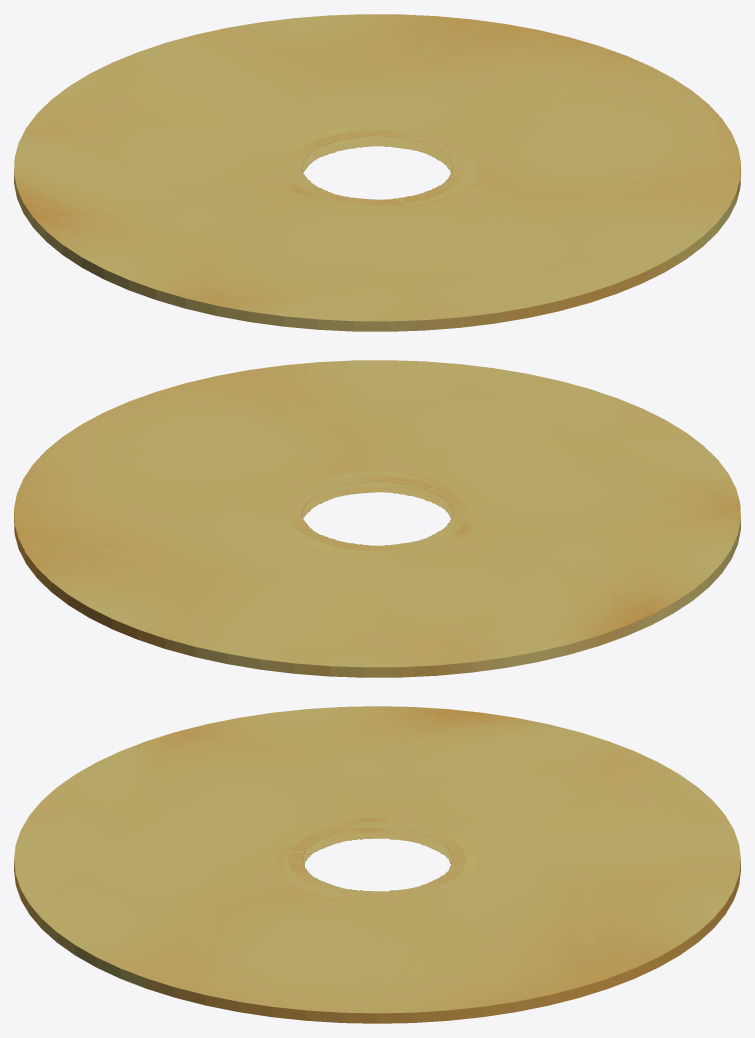
Rendered from paperPunching.fbx.
The picture shows the model from 3 angles, top to bottom: view 1: azimuth 30°, elevation 25°; view 2: azimuth 150°, elevation 25°; view 3: azimuth 270°, elevation 25°; orthographic projection.
Visible parts, largest first — view 1: Cylinder; view 2: Cylinder; view 3: Cylinder.
Boxes of the visible parts, x1,y1,x2,y2 form: Cylinder: (14,14,740,331); Cylinder: (14,360,740,677); Cylinder: (14,706,740,1023).
Bounding box in the file's own units: 254 × 4 × 254.
Materials: 1 (1 with a texture image).
